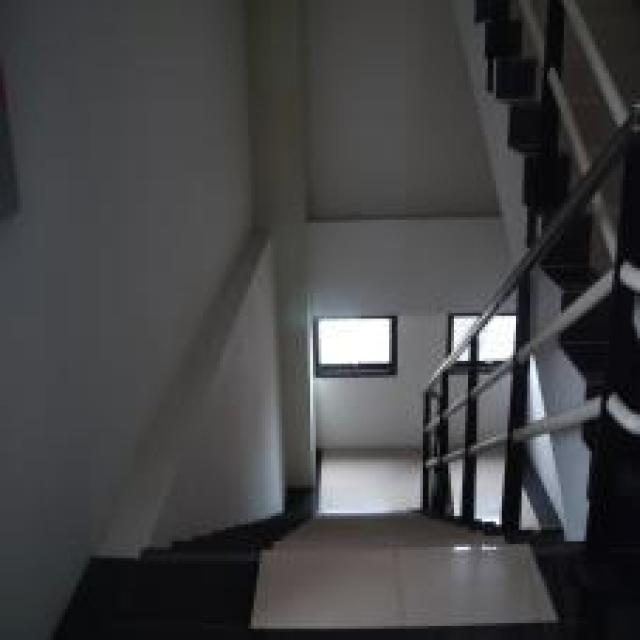downstair: (255, 517, 466, 638)
